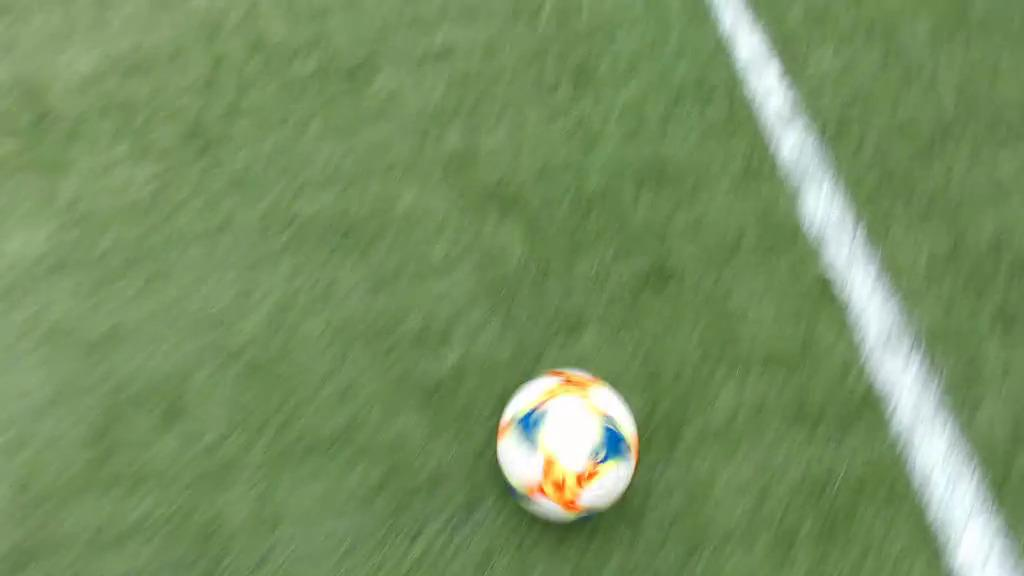ball: (498, 368, 638, 525)
